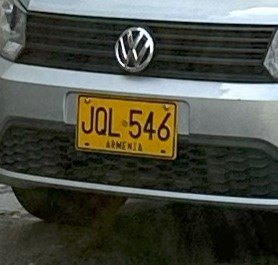number plate: (76, 95, 175, 159)
